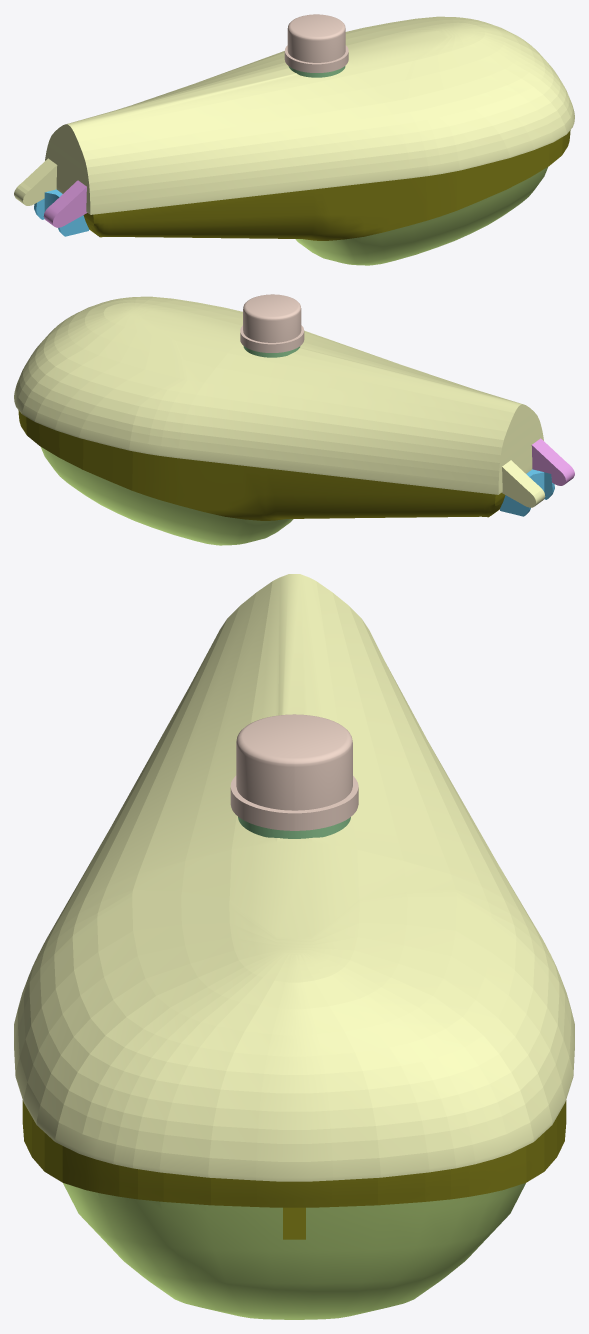
The picture shows the model from 3 angles, top to bottom: view 1: azimuth 30°, elevation 25°; view 2: azimuth 150°, elevation 25°; view 3: azimuth 270°, elevation 25°; orthographic projection. The views are drawn at different scales.
Visible parts, largest first — view 1: split_parent_0, split_parent_3, Object_2.495, Object_2.1597, Object_2.1257, Object_2.1311; view 2: split_parent_0, split_parent_3, Object_2.495, Object_2.1597, Object_2.1257, Object_2.1311; view 3: split_parent_0, Object_2.495, split_parent_3, Object_2.1597, Object_2.1335.
Part boxes in pixels (x1=…): split_parent_0: x1=14, y1=16, x2=574, y2=214; split_parent_3: x1=83, y1=130, x2=570, y2=240; Object_2.495: x1=295, y1=167, x2=547, y2=265; Object_2.1597: x1=284, y1=14, x2=348, y2=72; Object_2.1257: x1=43, y1=180, x2=87, y2=227; Object_2.1311: x1=34, y1=189, x2=88, y2=236; split_parent_0: x1=14, y1=296, x2=545, y2=507; split_parent_3: x1=18, y1=410, x2=505, y2=520; Object_2.495: x1=41, y1=447, x2=293, y2=545; Object_2.1597: x1=240, y1=294, x2=304, y2=352; Object_2.1257: x1=531, y1=438, x2=574, y2=485; Object_2.1311: x1=500, y1=469, x2=554, y2=516; split_parent_0: x1=14, y1=574, x2=574, y2=1181; Object_2.495: x1=63, y1=1183, x2=525, y2=1319; split_parent_3: x1=22, y1=1100, x2=566, y2=1239; Object_2.1597: x1=230, y1=714, x2=358, y2=830; Object_2.1335: x1=238, y1=817, x2=350, y2=838.
Bounding box in the file's own units: 1 × 0.4427 × 0.475.
